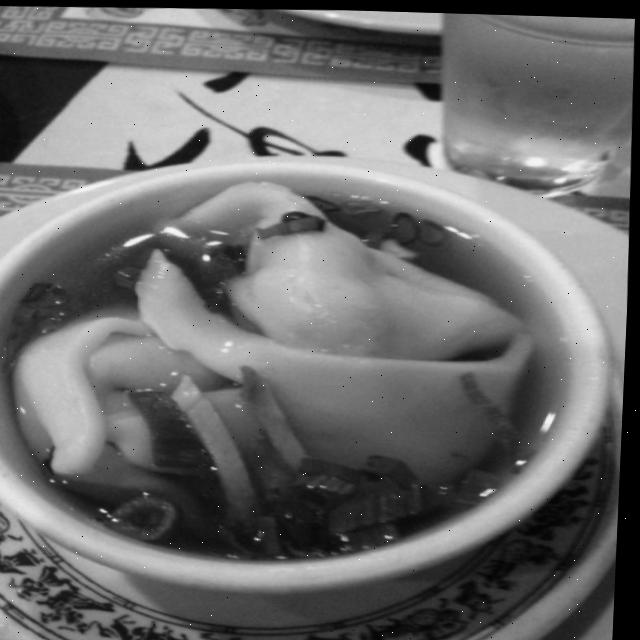汤锅炖物: (1, 102, 620, 636)
